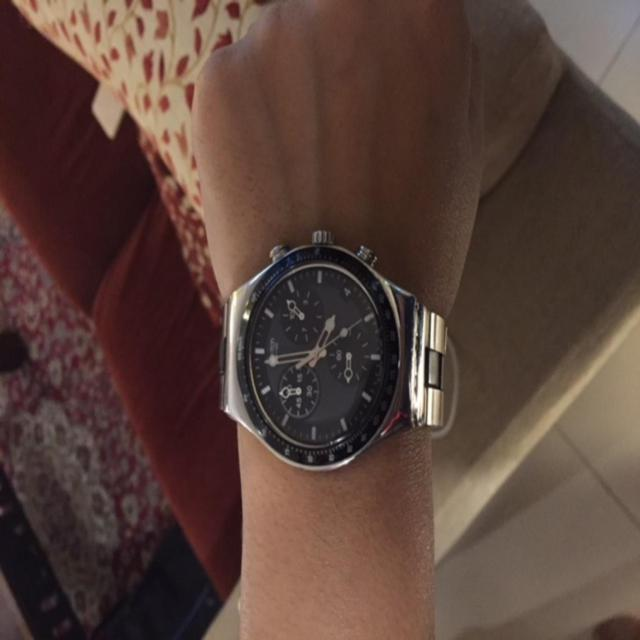Wrist watch: (217, 221, 448, 473)
